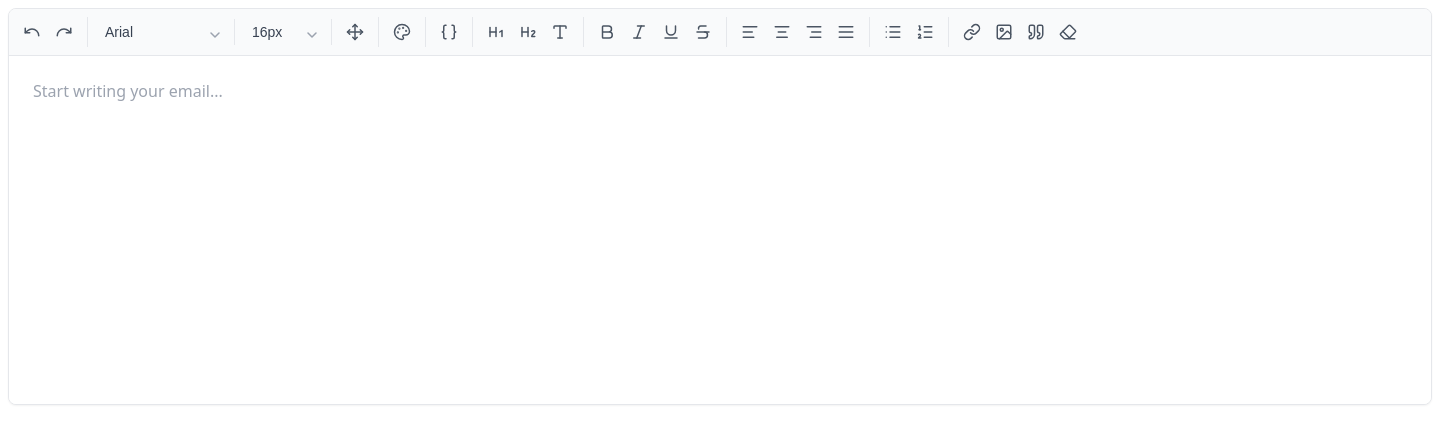
EmailEditor › dismisses open picker dropdowns when clicking outside
Click the button titled "Insert Variable": [449, 32] box [434,17,464,47]
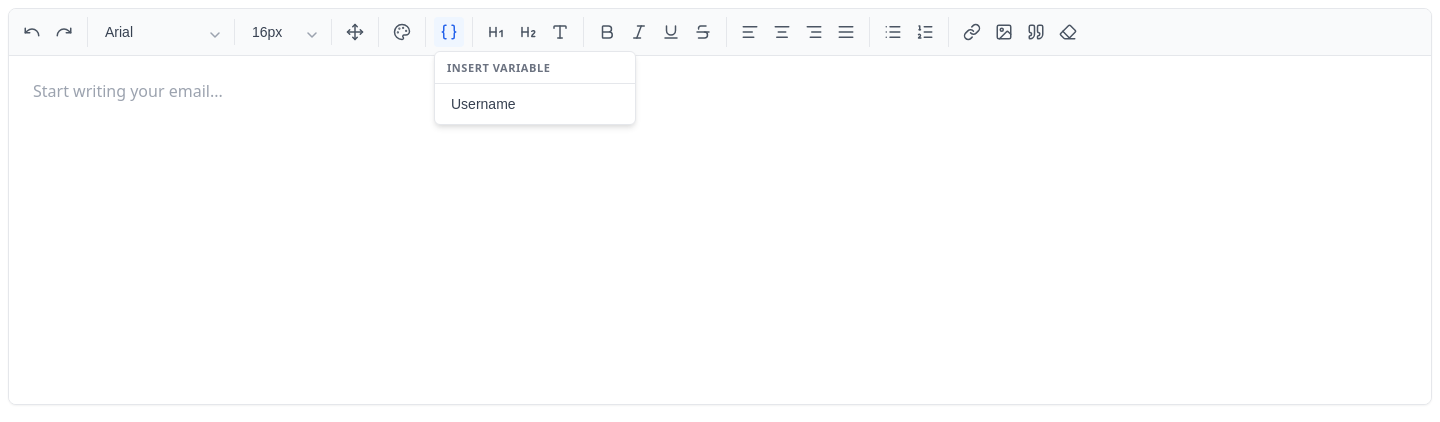
Result: the menu item "Username" is shown at [439,88,631,120]
Click outside the picker (mousedown, matching the document listener)
Press the mouse on the element showing "Insert Variable Username Start writing your email...": [720, 206] box [8,8,1432,405]
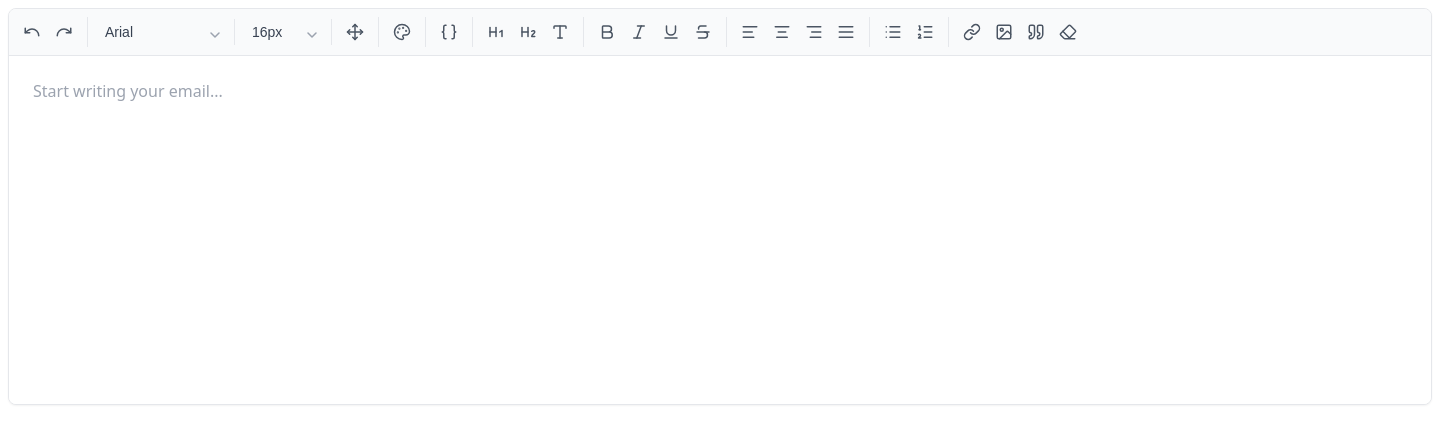
Result: the menu item "Username" is gone
